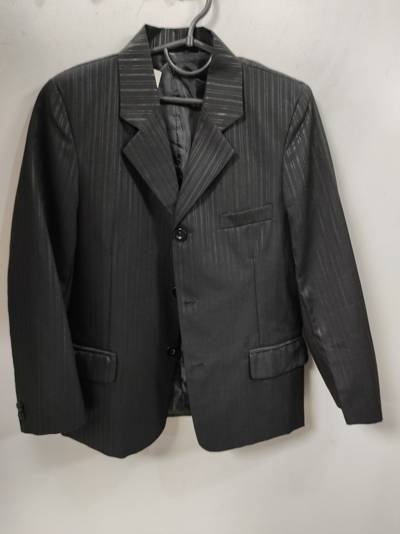Blazer: (11, 24, 386, 480)
